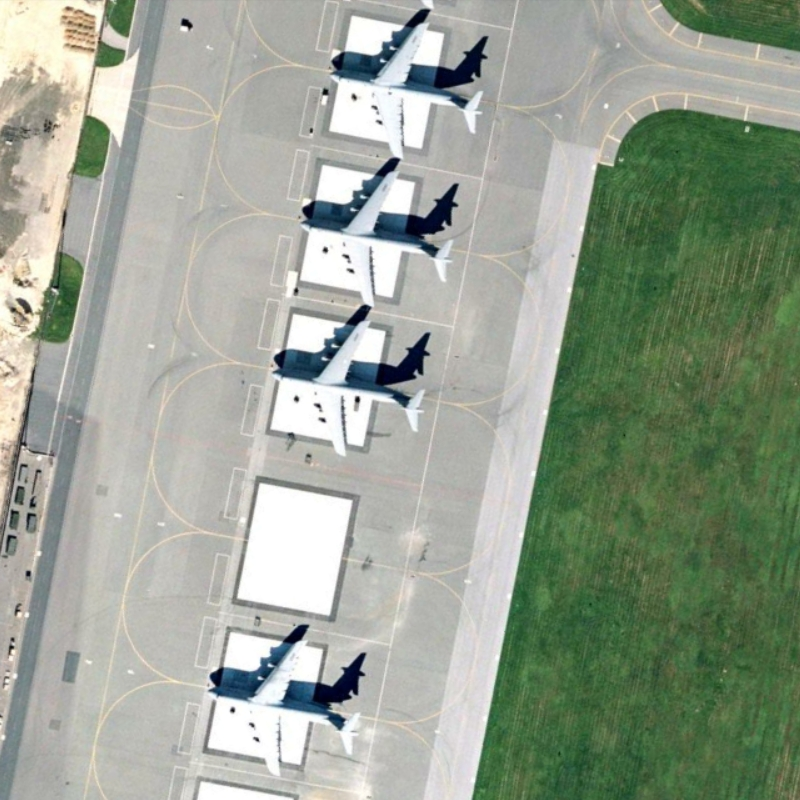A4: (317, 14, 490, 168), (292, 161, 461, 316), (199, 629, 365, 783), (265, 314, 430, 461)
